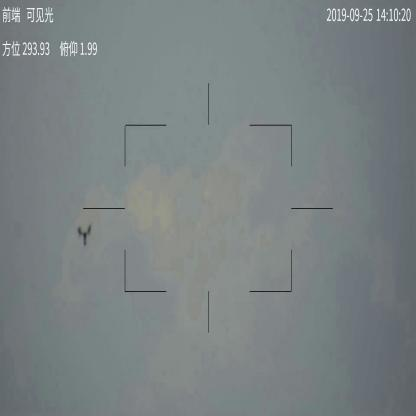uav: (77, 221, 92, 248)
